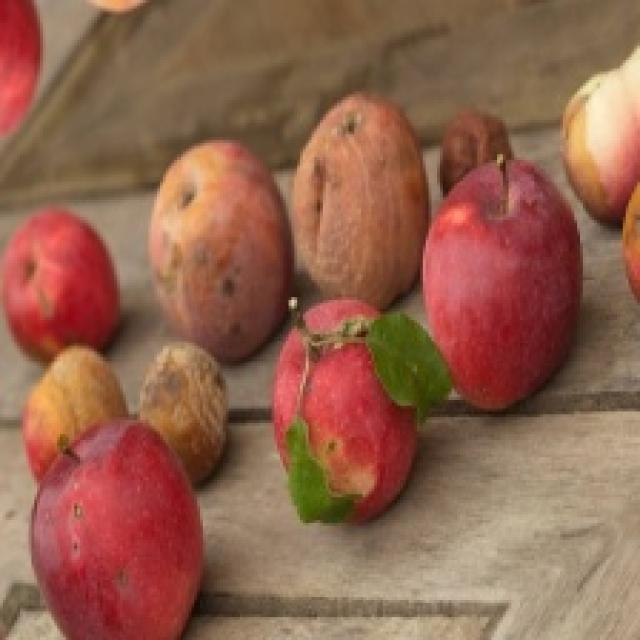rotten_apple: (152, 142, 290, 356), (303, 95, 424, 298), (146, 342, 229, 475), (26, 345, 127, 421), (440, 107, 510, 167)
